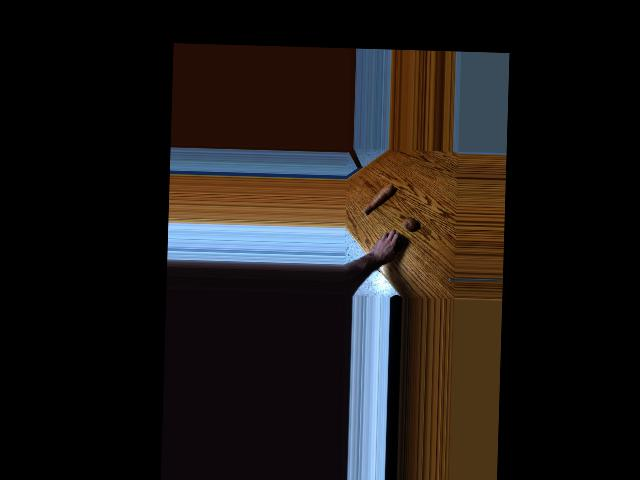onion: (390, 234, 404, 249)
